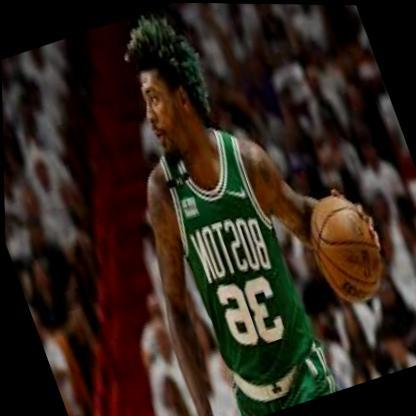basketball: (297, 186, 391, 309)
